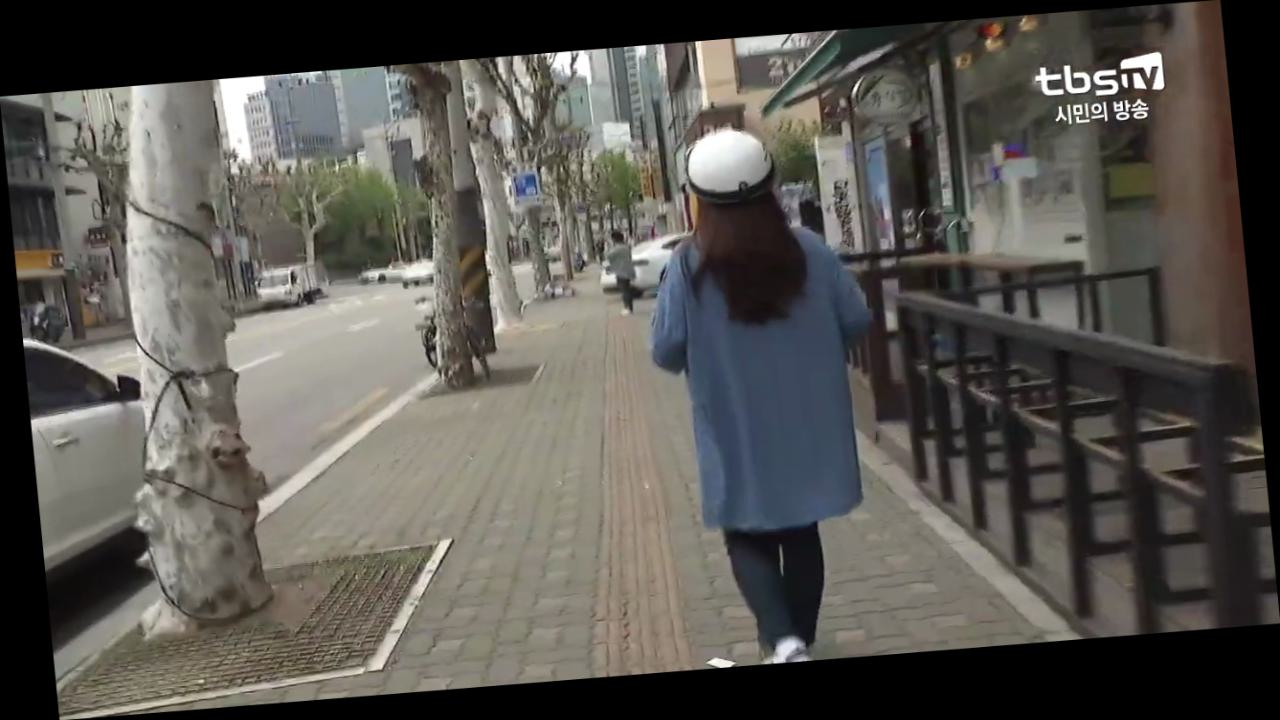helmet: (625, 116, 909, 671)
